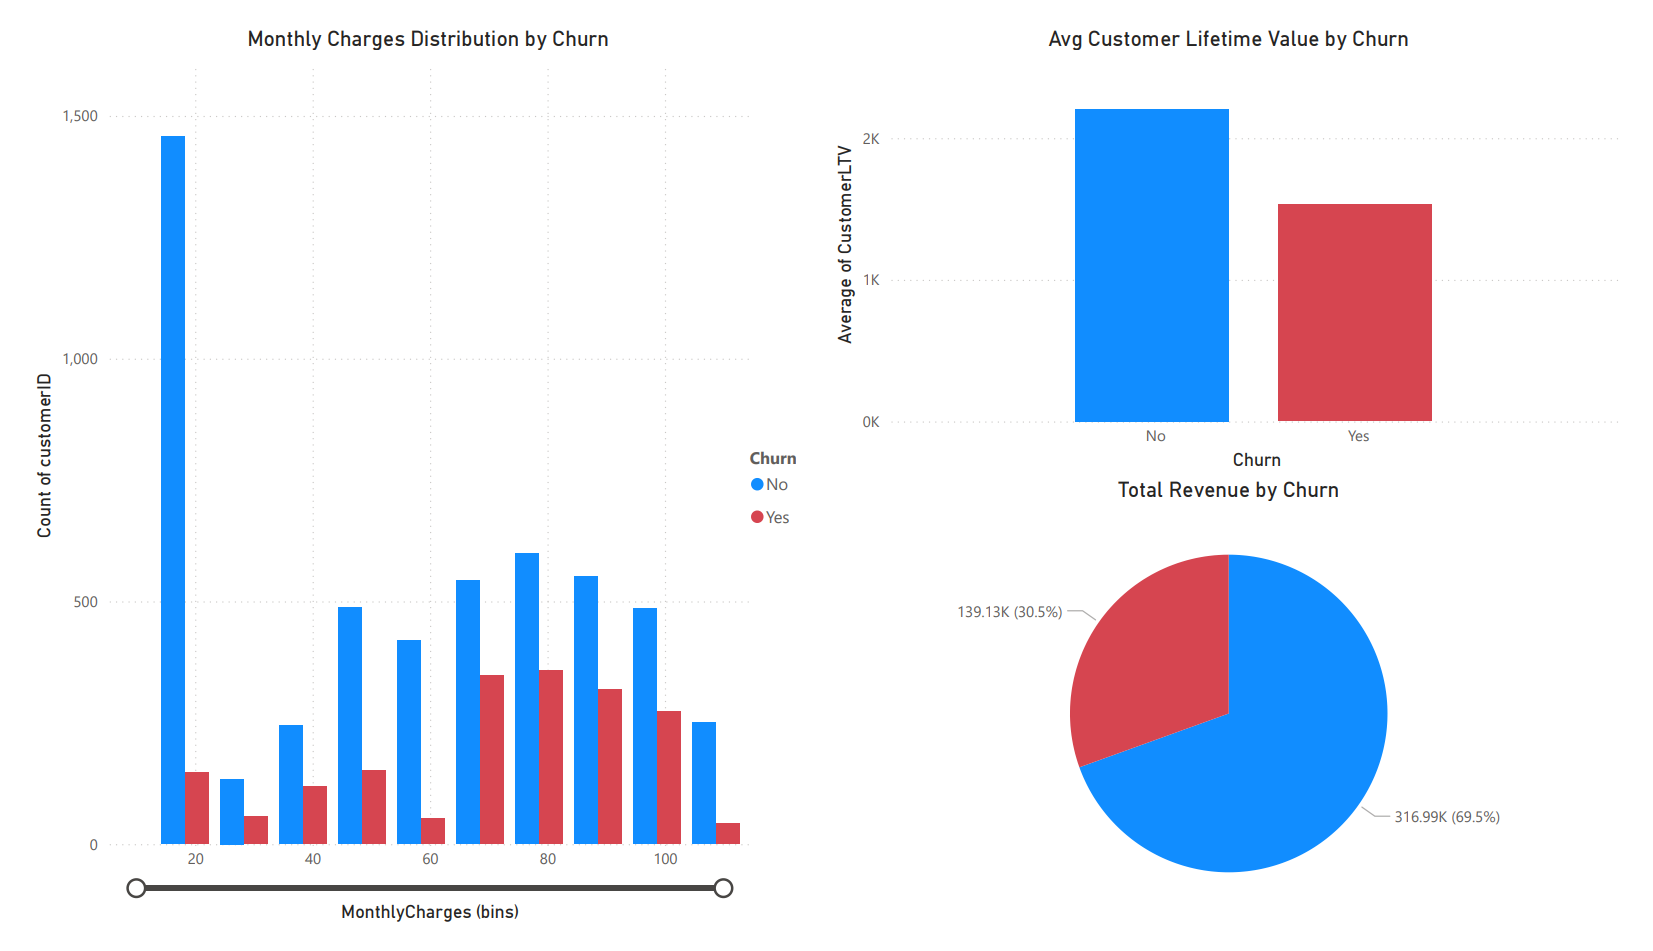

What the dashboard file says about the page in this screenshot:
{"tool":"powerbi","page":{"name":"Revenue_&_Value_Trends","canvas":[1280,720],"ordinal":2},"visuals":[{"type":"clusteredColumnChart","title":"Monthly Charges Distribution by  Churn","fields":{"Y":["CountNonNull(churn_data_for_dashboard.customerID)"],"Series":["churn_data_for_dashboard.Churn"],"Category":["churn_data_for_dashboard.MonthlyCharges (bins)"]},"box":[0,0,640,720.7],"z":0},{"type":"columnChart","title":"Avg Customer Lifetime Value by Churn","fields":{"Y":["Avg(churn_data_for_dashboard.CustomerLTV)"],"Category":["churn_data_for_dashboard.Churn"]},"box":[640,0,640,360.3],"z":1000},{"type":"pieChart","title":"Total Revenue by Churn","fields":{"Y":["Sum(churn_data_for_dashboard.MonthlyCharges)"],"Category":["churn_data_for_dashboard.Churn"]},"box":[640,360,640,360],"z":2000}]}

Visuals, with their boxes in screenshot pixels (x1, y1, x2, y2), scaled from the page's 1280x720 canvas onto the 1653x951 screenshot:
"Monthly Charges Distribution by  Churn" clusteredColumnChart: <box>0,0,826,950</box>
"Avg Customer Lifetime Value by Churn" columnChart: <box>826,0,1652,476</box>
"Total Revenue by Churn" pieChart: <box>826,476,1652,950</box>
